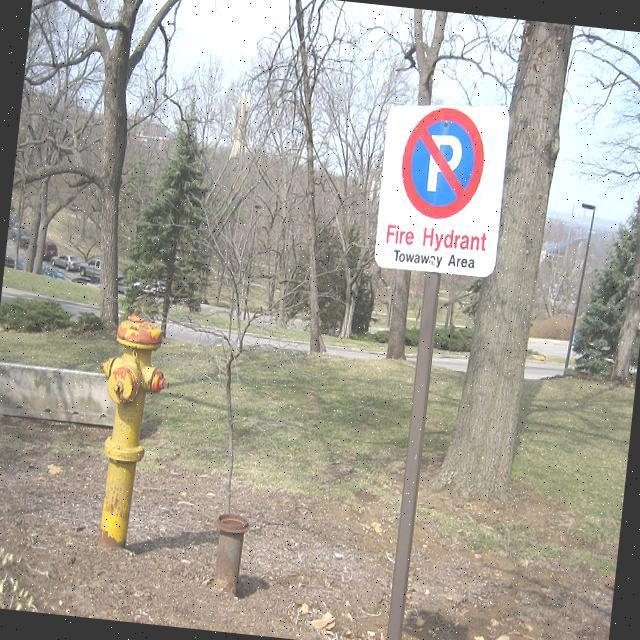fire_hydrant: (80, 303, 178, 553)
